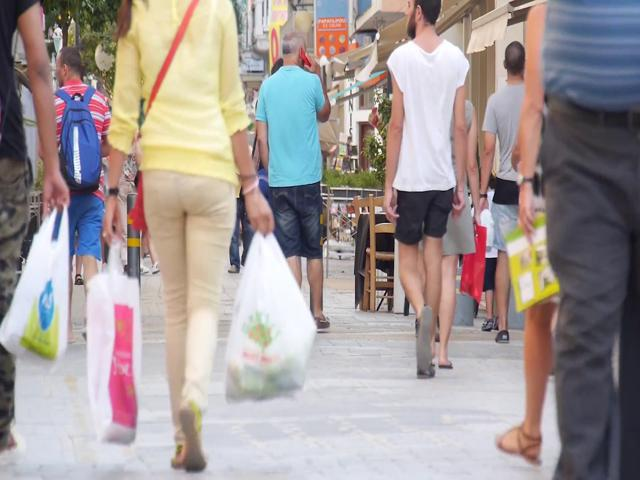shoe: (494, 421, 542, 467), (178, 407, 206, 472), (417, 308, 432, 372), (495, 329, 510, 343)
